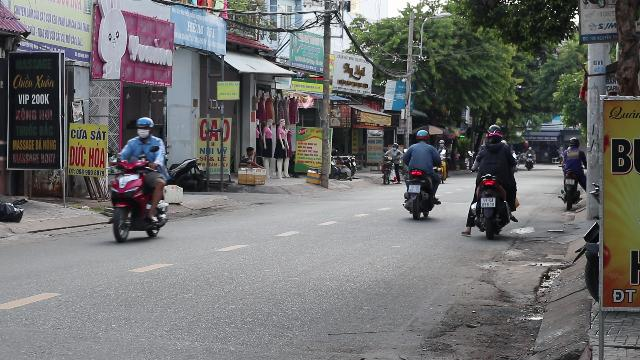helmet: (134, 116, 154, 138), (485, 124, 503, 142)
licenseplate: (481, 198, 495, 208)
motorcyclist: (103, 115, 171, 243), (464, 124, 522, 238)
